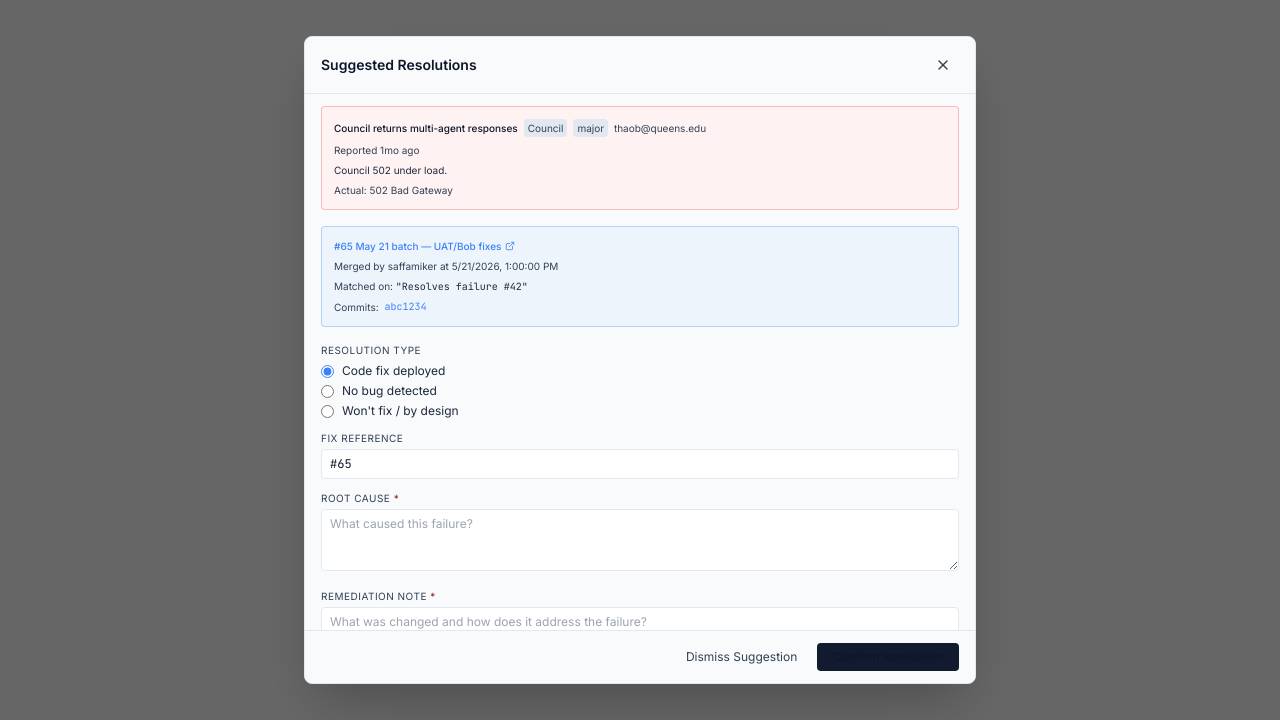
Scenario: SuggestionReviewModal — Confirm gate › switching type to no_bug_detected drops the remediation requirement
Click the radio button labelled "No bug detected" at (328, 392), box [321,385,334,398]
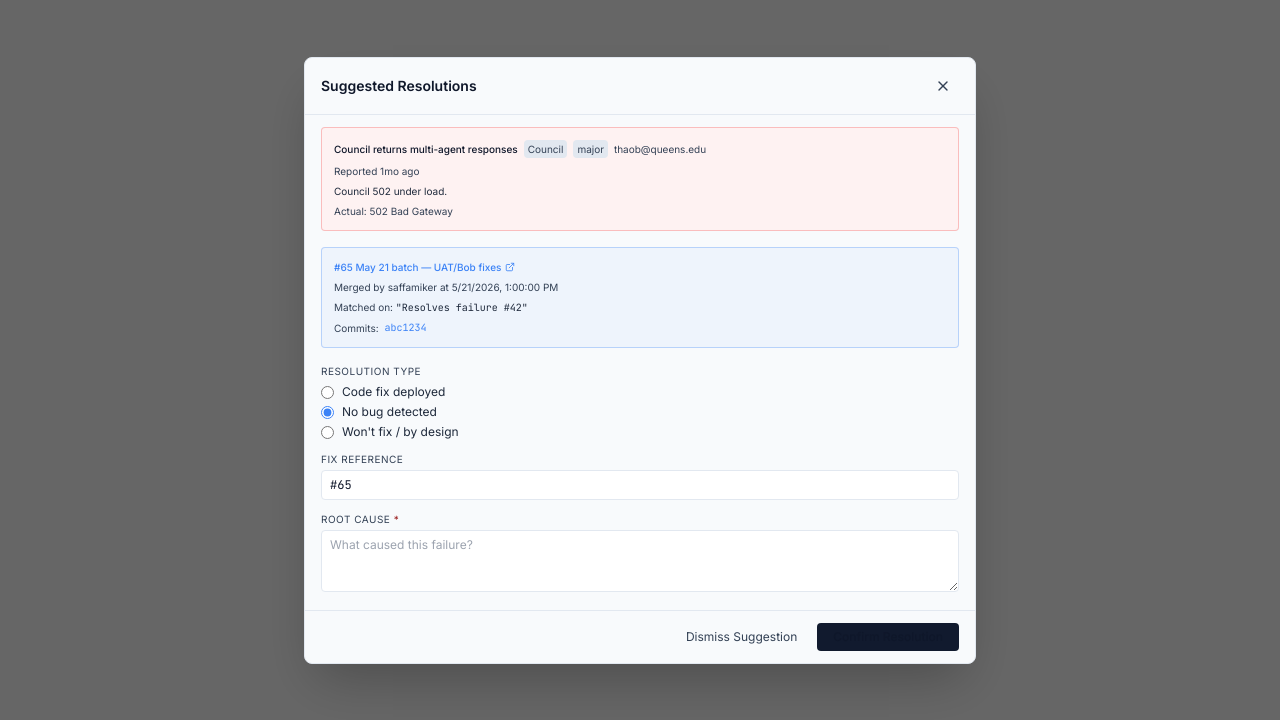
Type "User error." into the text box with placeholder "What caused this failure?" at (640, 560), box [321,530,959,592]
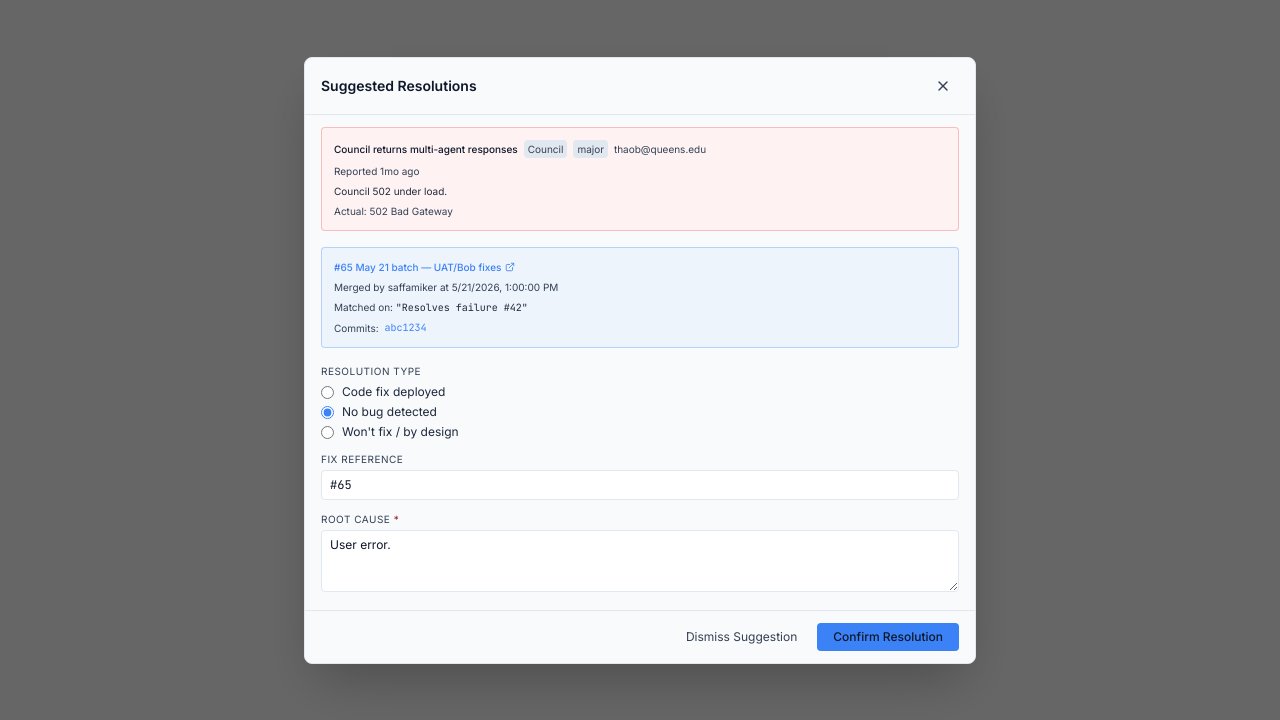
Check: the field with placeholder "what was changed and how does it address" is not shown
Check: the button "Confirm Resolution" is enabled, box [817,622,959,650]
